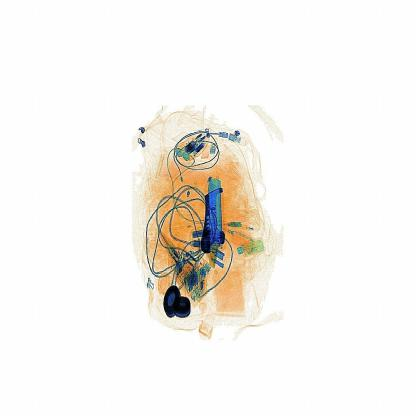pliers: (195, 174, 228, 255)
